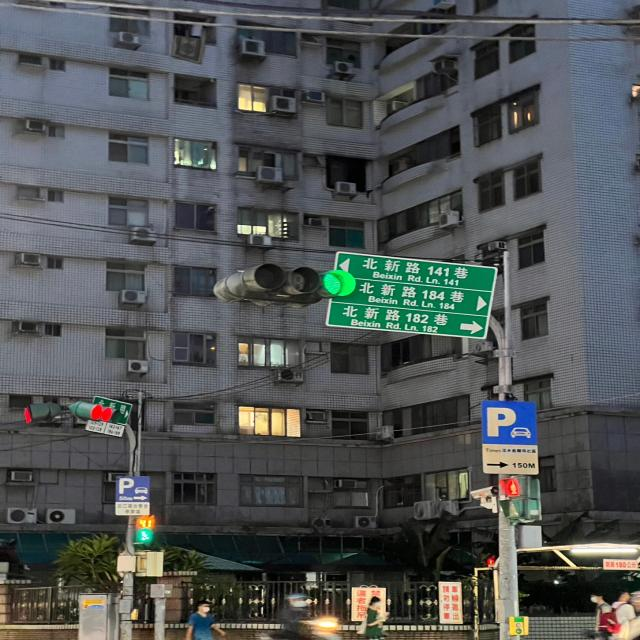green light: (225, 268, 357, 302)
red light: (71, 402, 134, 425), (498, 475, 530, 519)
